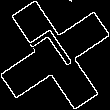L_SE: (28, 25, 82, 85)
